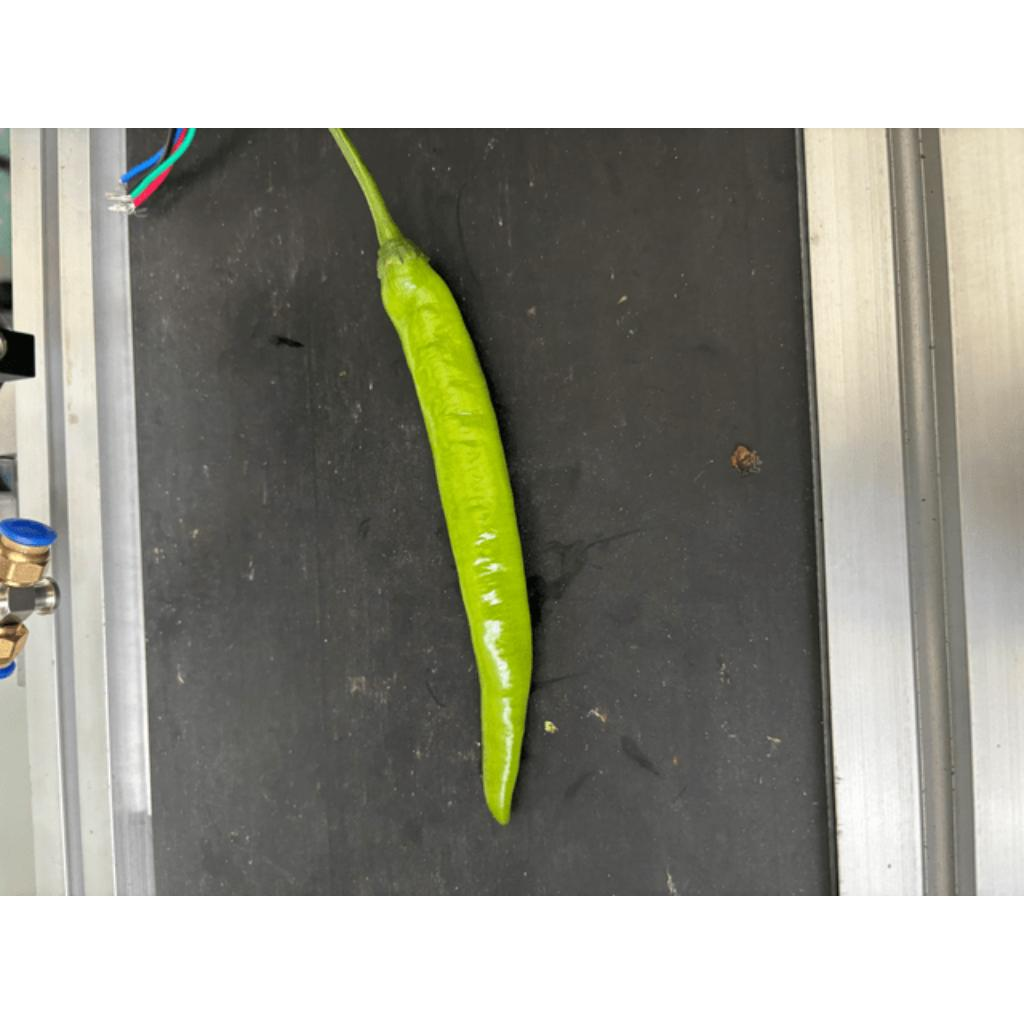chili: (372, 234, 533, 831)
